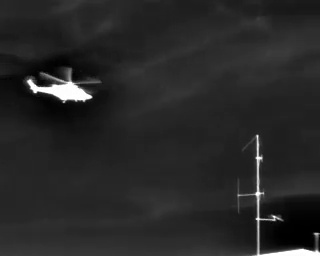HELICOPTER: (24, 61, 106, 111)
